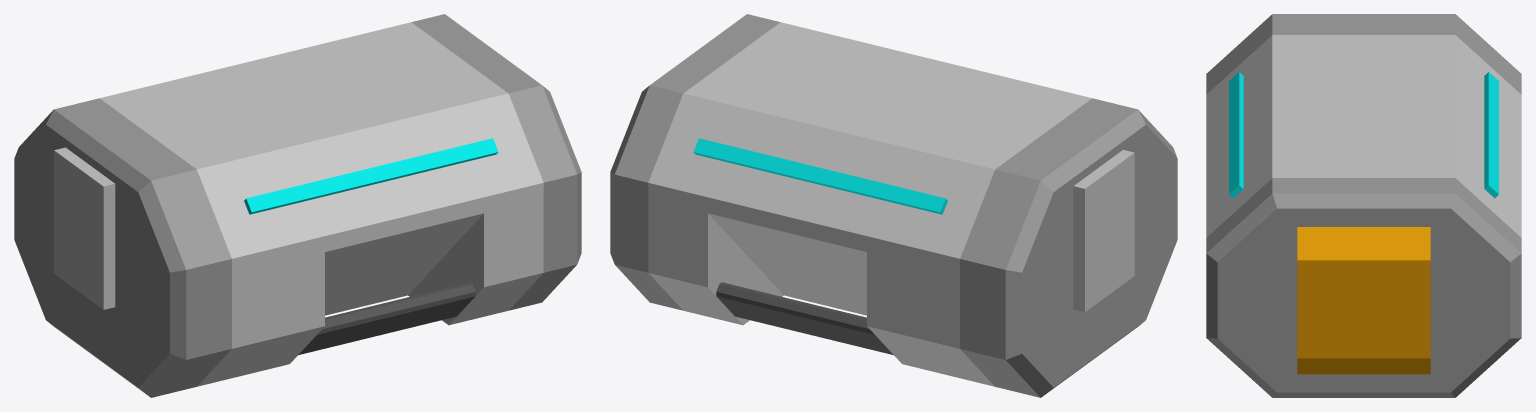
Rendered from SM_LMG01_Battery.fbx.
3 views of the same model, side by side, from view 1: azimuth 30°, elevation 25°; view 2: azimuth 150°, elevation 25°; view 3: azimuth 270°, elevation 25° (orthographic). The views are drawn at different scales.
Parts seen in each view (by area): view 1: SM_LMG01_Battery; view 2: SM_LMG01_Battery; view 3: SM_LMG01_Battery.
Part boxes in pixels (x1,y1,x2,y2): SM_LMG01_Battery: (14, 14, 581, 397); SM_LMG01_Battery: (610, 14, 1177, 397); SM_LMG01_Battery: (1206, 14, 1521, 397).
Size of the model in its own units: 18.66 by 8.69 by 12.14.
